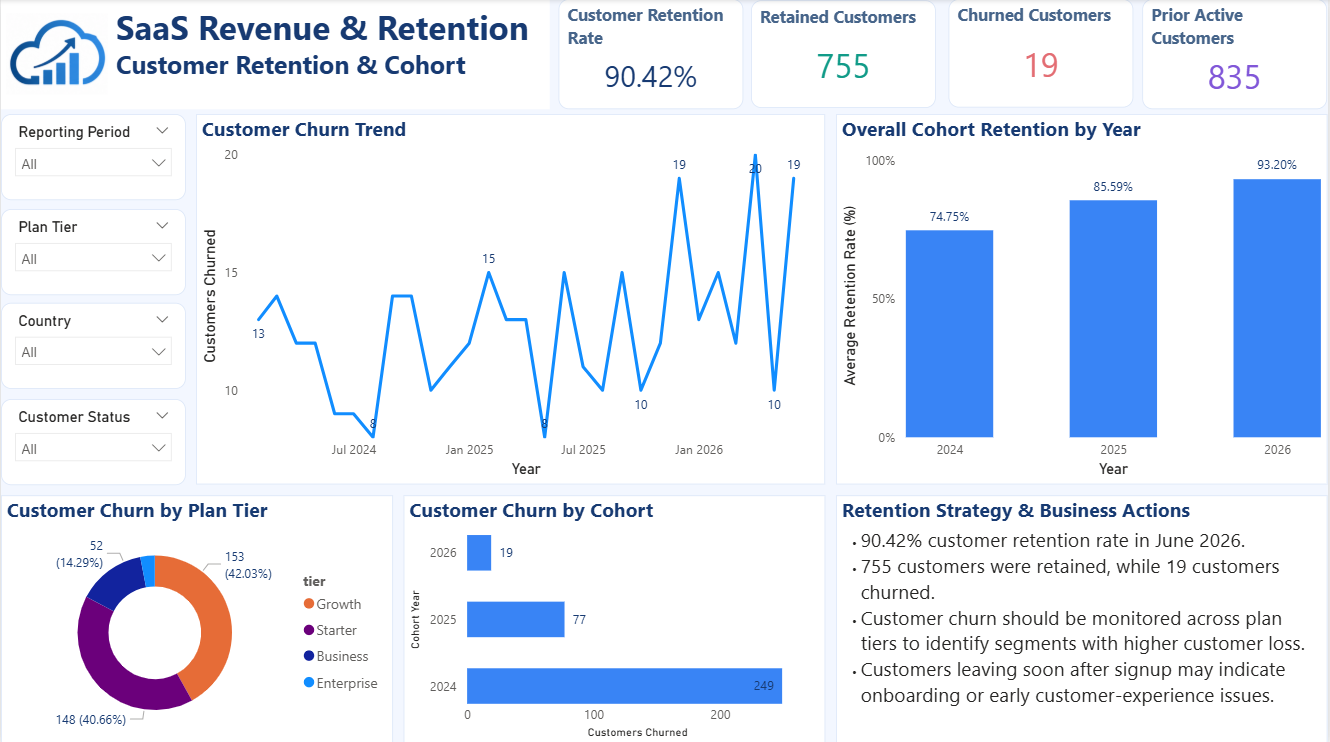

This screenshot's page, from the dashboard's own definition file:
{"tool":"powerbi","page":{"name":"Customer Retention & Cohort Analysis","canvas":[1280,720],"ordinal":4},"visuals":[{"type":"card","title":"Customer Retention Rate","fields":{"Values":["subscription_months.Customer Retention Rate"]},"box":[538.1,0,178.6,106.2],"z":0},{"type":"card","title":"Retained Customers","fields":{"Values":["subscription_months.Retained Customers"]},"box":[724.4,1.4,178.6,104.3],"z":1000},{"type":"card","title":"Churned Customers","fields":{"Values":["customers.Churned Customers"]},"box":[914.5,0,178.6,105],"z":2000},{"type":"card","title":"Prior Active Customers","fields":{"Values":["subscription_months.Previous Month Active Customers"]},"box":[1101.4,0,178.6,106.2],"z":3000},{"type":"slicer","fields":{"Values":["subscription_months.period_month"]},"box":[0,111,178.6,83.2],"z":4000},{"type":"slicer","fields":{"Values":["plans.tier"]},"box":[0,202.7,178.6,83.2],"z":5000},{"type":"slicer","fields":{"Values":["customers.country"]},"box":[0,293.2,178.6,83.2],"z":6000},{"type":"slicer","fields":{"Values":["customers.customer_status"]},"box":[0,386.1,178.6,83.2],"z":7000},{"type":"image","box":[0,0,108.6,105],"z":8000},{"type":"textbox","box":[0,0,529.6,106.2],"z":9000},{"type":"image","box":[0,0,108.6,106.2],"z":10000},{"type":"lineChart","title":"Customer Churn Trend","fields":{"Y":["Count(subscription_months.customer_id)"],"Category":["subscription_months.period_month.Variation.Date Hierarchy.Year","subscription_months.period_month.Variation.Date Hierarchy.Quarter","subscription_months.period_month.Variation.Date Hierarchy.Month","subscription_months.period_month.Variation.Date Hierarchy.Day"]},"box":[188.6,111.5,607.3,357.2],"z":11000},{"type":"clusteredColumnChart","title":"Overall Cohort Retention by Year","fields":{"Category":["Cohort_Month.Cohort Month.Variation.Date Hierarchy.Year"],"Y":["monthly_cohort_retention.Cohort Retention %"]},"box":[805.9,111.5,474.4,357.2],"z":12000},{"type":"donutChart","title":"Customer Churn by Plan Tier","fields":{"Category":["plans.tier"],"Y":["Count(subscription_months.customer_id)"]},"box":[0,478.7,378.7,241.5],"z":13000},{"type":"clusteredBarChart","title":"Customer Churn by Cohort","fields":{"Y":["customers.Churned Customers by Cohort"],"Category":["customers.cohort_month.Variation.Date Hierarchy.Year","customers.cohort_month.Variation.Date Hierarchy.Quarter","customers.cohort_month.Variation.Date Hierarchy.Month","customers.cohort_month.Variation.Date Hierarchy.Day"]},"box":[388.7,478.7,407.2,241.5],"z":14000},{"type":"textbox","title":"Retention Strategy & Business Actions","box":[806,479,474,241],"z":15000}]}

Visuals, with their boxes in screenshot pixels (x1, y1, x2, y2), scaled from the page's 1280x720 canvas onto the 1330x742 screenshot:
"Customer Retention Rate" card: x1=559 y1=0 x2=745 y2=109
"Retained Customers" card: x1=753 y1=1 x2=938 y2=109
"Churned Customers" card: x1=950 y1=0 x2=1136 y2=108
"Prior Active Customers" card: x1=1144 y1=0 x2=1329 y2=109
slicer - subscription_months.period_month: x1=0 y1=114 x2=186 y2=200
slicer - plans.tier: x1=0 y1=209 x2=186 y2=295
slicer - customers.country: x1=0 y1=302 x2=186 y2=388
slicer - customers.customer_status: x1=0 y1=398 x2=186 y2=484
image: x1=0 y1=0 x2=113 y2=108
textbox: x1=0 y1=0 x2=550 y2=109
image: x1=0 y1=0 x2=113 y2=109
"Customer Churn Trend" lineChart: x1=196 y1=115 x2=827 y2=483
"Overall Cohort Retention by Year" clusteredColumnChart: x1=837 y1=115 x2=1329 y2=483
"Customer Churn by Plan Tier" donutChart: x1=0 y1=493 x2=393 y2=741
"Customer Churn by Cohort" clusteredBarChart: x1=404 y1=493 x2=827 y2=741
"Retention Strategy & Business Actions" textbox: x1=837 y1=494 x2=1329 y2=741
